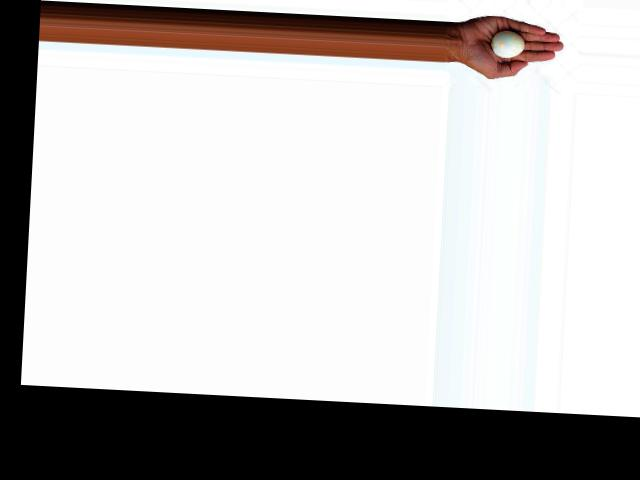egg: (491, 30, 526, 58)
